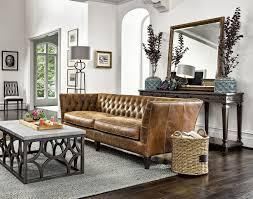chair: (1, 78, 24, 118)
door: (32, 39, 58, 107)
light: (68, 45, 91, 90), (176, 63, 197, 88)
sofa: (56, 91, 200, 171)
table: (134, 88, 246, 151), (0, 118, 86, 183)
